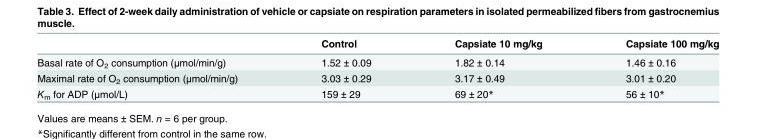table: (36, 36, 718, 100)
table column: (36, 36, 278, 100), (412, 36, 583, 100), (583, 36, 718, 100), (278, 36, 412, 100)
table column header: (36, 36, 718, 52)
table row: (36, 52, 718, 70), (36, 36, 718, 52), (36, 70, 718, 85), (36, 85, 718, 100)
